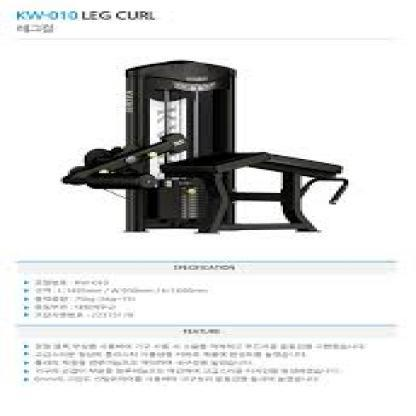reg curl machine: (54, 57, 355, 235)
